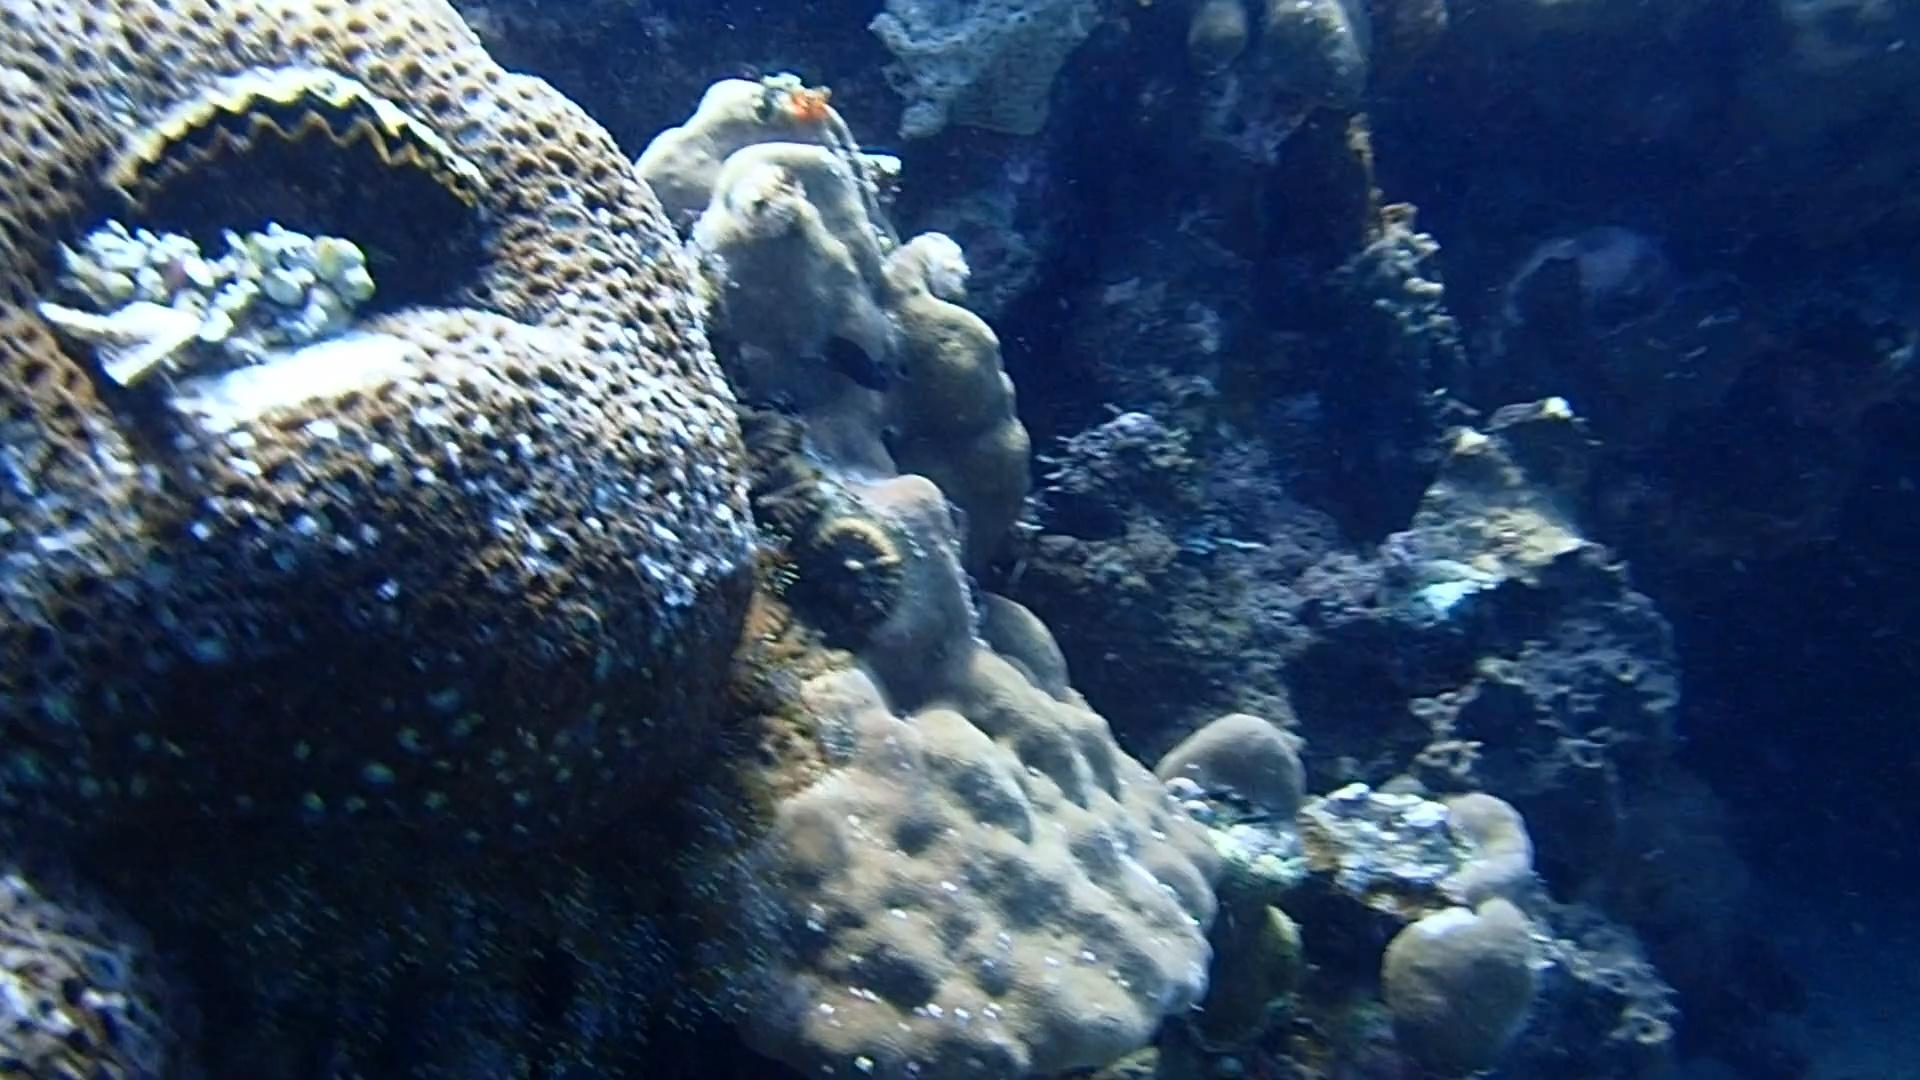Dark Fish: (1018, 477, 1142, 554), (814, 320, 898, 398)
